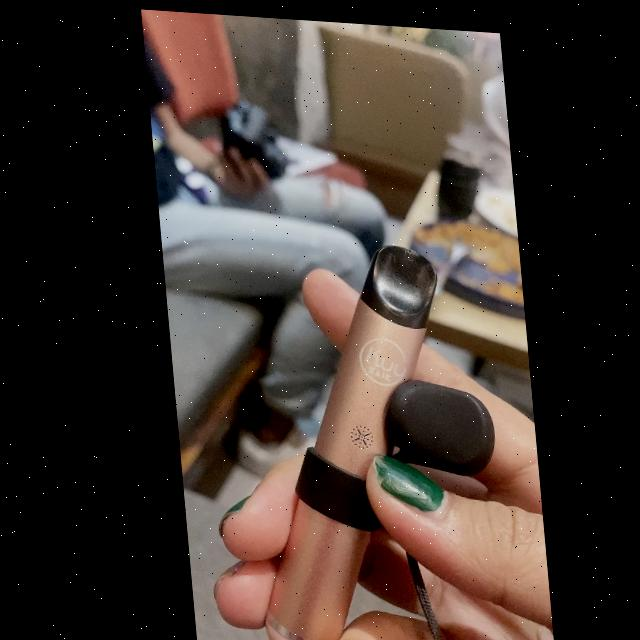vape: (226, 231, 460, 640)
